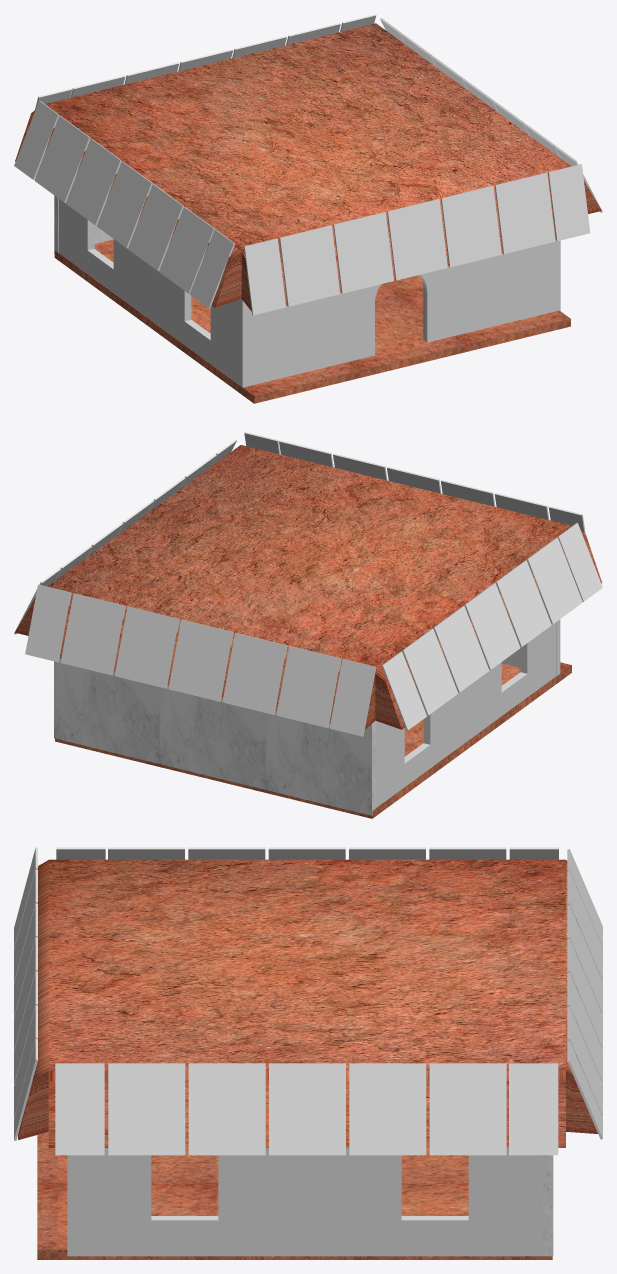
File: Bulding 2.fbx
3 views of the same model, one above another, from view 1: azimuth 30°, elevation 25°; view 2: azimuth 150°, elevation 25°; view 3: azimuth 270°, elevation 25° (orthographic). The views are drawn at different scales.
Visible parts, largest first — view 1: roof, Cube_3_10, roof_interior, Cube_2_6, Cube_1_3, Cube_5_3, Cube_2_4, Cube_6_3, Cube_3_4, Cube_1, Cube, Cube_6 (+11 smaller); view 2: roof, Back_Wall, Cube_2_6, Cube_2_5, Cube_6_4, Cube_5_4, Cube_1_4, Cube_4_5, roof_interior, Cube_1, Cube_5, Cube_2 (+11 smaller); view 3: roof, Cube_2_8, roof_interior, Cube_6_2, Cube_5_2, Cube_2_2, Cube_1_2, Cube_2_3, Cube_3_2, Cube_4_2, Cube_2_5, Cube_5_4 (+21 smaller).
Boxes of the visible parts, x1=… form: roof: x1=15, y1=23, x2=601, y2=311; Cube_3_10: x1=238, y1=240, x2=560, y2=387; roof_interior: x1=54, y1=239, x2=570, y2=403; Cube_2_6: x1=59, y1=199, x2=238, y2=383; Cube_1_3: x1=333, y1=212, x2=393, y2=293; Cube_5_3: x1=494, y1=172, x2=555, y2=254; Cube_2_4: x1=279, y1=225, x2=340, y2=306; Cube_6_3: x1=441, y1=185, x2=501, y2=267; Cube_3_4: x1=387, y1=199, x2=447, y2=280; Cube_1: x1=65, y1=138, x2=121, y2=225; Cube: x1=97, y1=161, x2=152, y2=248; Cube_6: x1=128, y1=184, x2=183, y2=270; roof: x1=15, y1=445, x2=601, y2=729; Back_Wall: x1=54, y1=658, x2=375, y2=815; Cube_2_6: x1=376, y1=622, x2=555, y2=807; Cube_2_5: x1=60, y1=593, x2=125, y2=675; Cube_6_4: x1=222, y1=632, x2=287, y2=714; Cube_5_4: x1=276, y1=646, x2=341, y2=728; Cube_1_4: x1=114, y1=606, x2=179, y2=688; Cube_4_5: x1=168, y1=619, x2=233, y2=701; roof_interior: x1=55, y1=662, x2=571, y2=818; Cube_1: x1=433, y1=606, x2=489, y2=692; Cube_5: x1=526, y1=537, x2=582, y2=624; Cube_2: x1=402, y1=628, x2=458, y2=715; roof: x1=18, y1=859, x2=597, y2=1147; Cube_2_8: x1=77, y1=1148, x2=542, y2=1256; roof_interior: x1=37, y1=1132, x2=552, y2=1259; Cube_6_2: x1=349, y1=1063, x2=426, y2=1155; Cube_5_2: x1=429, y1=1063, x2=506, y2=1155; Cube_2_2: x1=108, y1=1063, x2=185, y2=1155; Cube_1_2: x1=188, y1=1063, x2=265, y2=1155; Cube_2_3: x1=269, y1=1063, x2=345, y2=1155; Cube_3_2: x1=55, y1=1063, x2=104, y2=1155; Cube_4_2: x1=509, y1=1063, x2=558, y2=1155; Cube_2_5: x1=567, y1=1006, x2=602, y2=1116; Cube_5_4: x1=567, y1=870, x2=602, y2=980.
Bounding box in the file's own units: 743 × 288 × 745.
2 materials, 2 textured.
